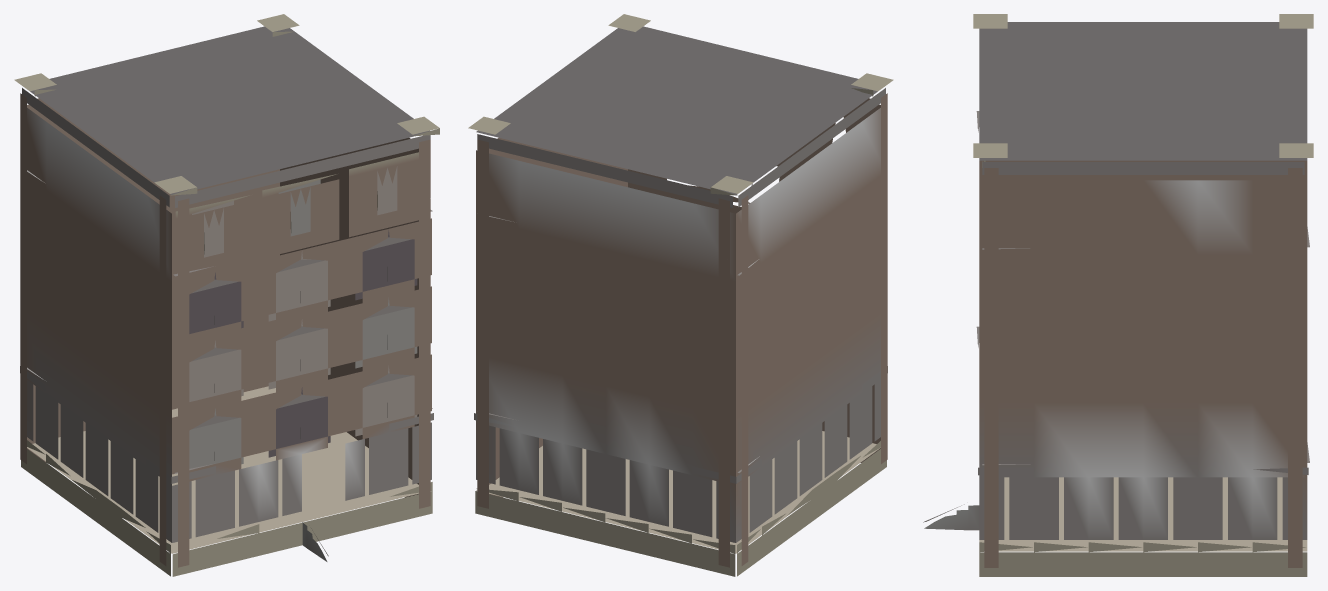
Rendered from downtown_small_lod1.glb.
3 renders of one model, left to right at view 1: azimuth 30°, elevation 25°; view 2: azimuth 150°, elevation 25°; view 3: azimuth 270°, elevation 25°, orthographic. The views are drawn at different scales.
Visible parts, largest first — view 1: downtown_small_lod1; view 2: downtown_small_lod1; view 3: downtown_small_lod1.
Boxes of the visible parts, x1,y1,x2,y2 form: downtown_small_lod1: (14,14,439,576); downtown_small_lod1: (468,14,893,576); downtown_small_lod1: (923,14,1313,576).
Bounding box in the file's own units: 12.46 × 17.01 × 14.32.
